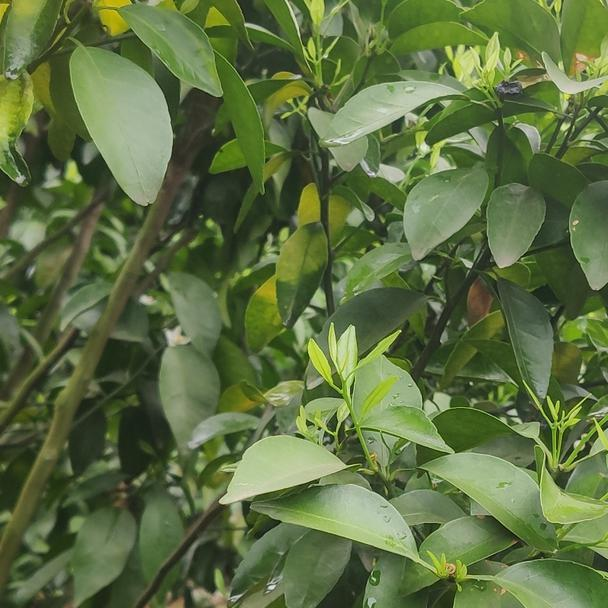shoot: (310, 304, 394, 433), (470, 35, 539, 102)
